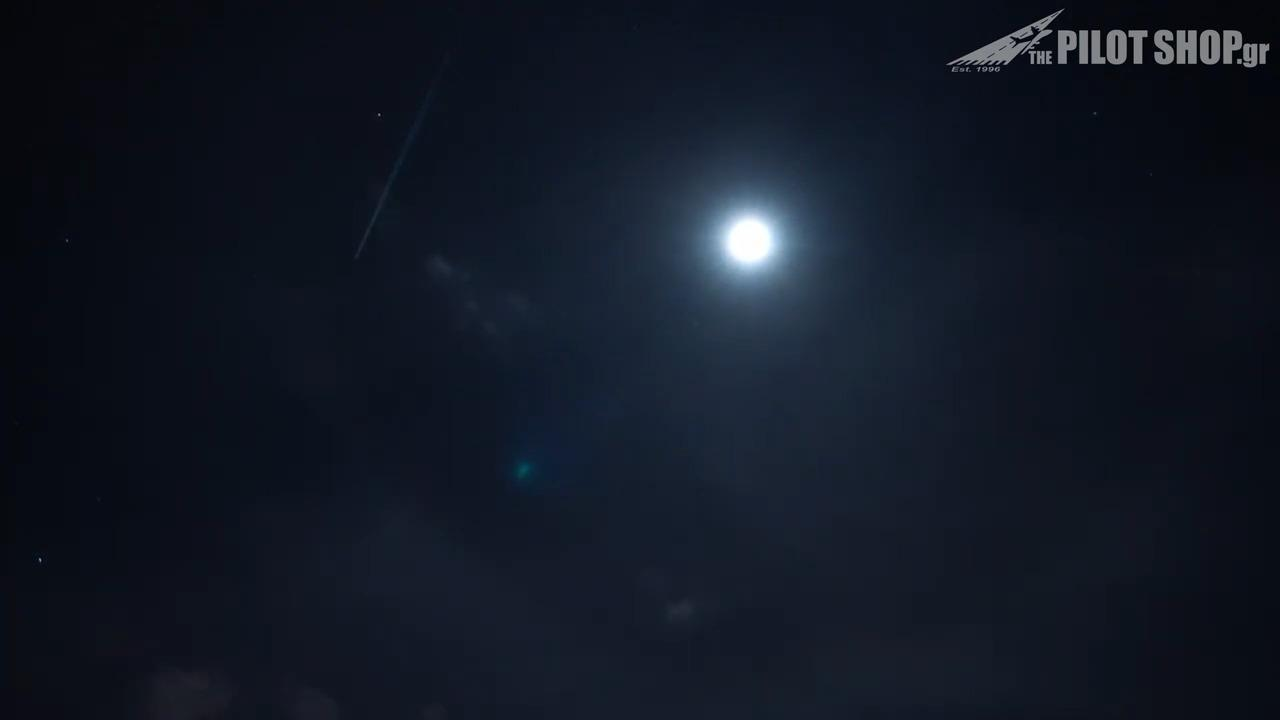Plane: (276, 23, 530, 273)
